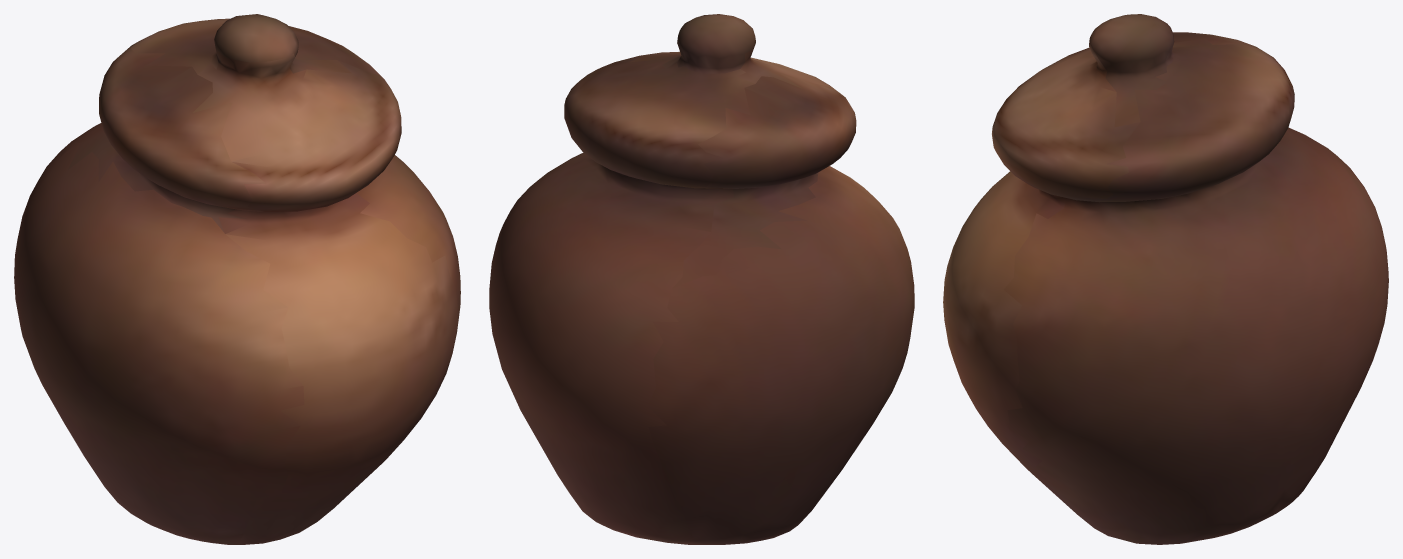
Rendered from v07_pote_redondo.glb.
3 views of the same model, side by side, from view 1: azimuth 30°, elevation 25°; view 2: azimuth 150°, elevation 25°; view 3: azimuth 270°, elevation 25° (orthographic). The views are drawn at different scales.
Visible parts, largest first — view 1: v07_pote_redondo; view 2: v07_pote_redondo; view 3: v07_pote_redondo.
Boxes of the visible parts, x1=… form: v07_pote_redondo: x1=14, y1=14, x2=460, y2=544; v07_pote_redondo: x1=489, y1=14, x2=914, y2=544; v07_pote_redondo: x1=943, y1=14, x2=1388, y2=544.
Size of the model in its own units: 0.3966 by 0.5001 by 0.4085.
Materials: 1 (1 with a texture image).
